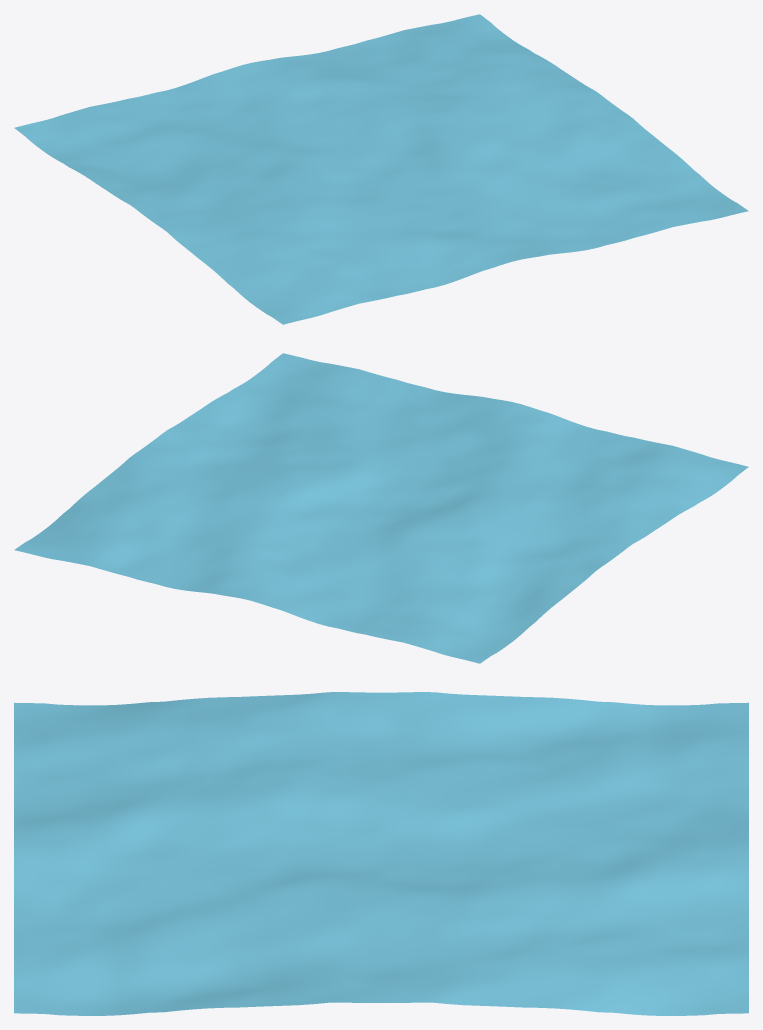
Rendered from plane_sea.fbx.
3 views of the same model, one above another, from view 1: azimuth 30°, elevation 25°; view 2: azimuth 150°, elevation 25°; view 3: azimuth 270°, elevation 25° (orthographic). The views are drawn at different scales.
Parts seen in each view (by area): view 1: OCEAN PLANE; view 2: OCEAN PLANE; view 3: OCEAN PLANE.
Part boxes in pixels (x1=…): OCEAN PLANE: x1=14, y1=14, x2=748, y2=324; OCEAN PLANE: x1=14, y1=353, x2=748, y2=663; OCEAN PLANE: x1=14, y1=692, x2=748, y2=1015.
Size of the model in its own units: 900 by 25.16 by 900.
